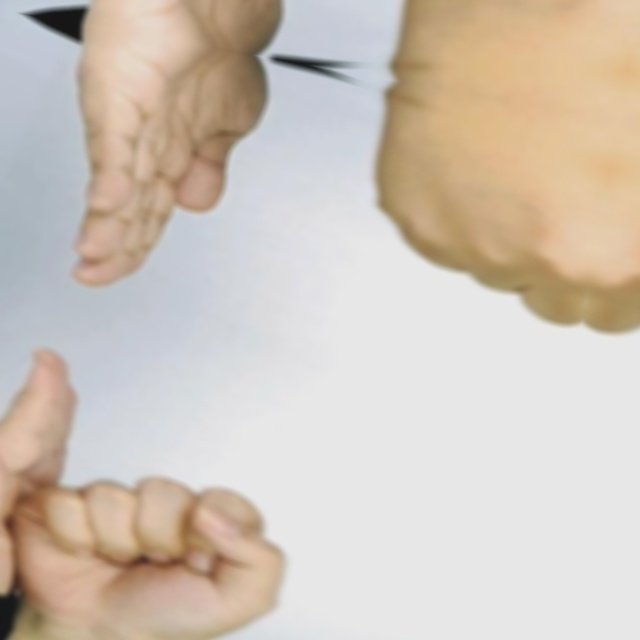Rock: (370, 0, 640, 105), (622, 0, 640, 150)
